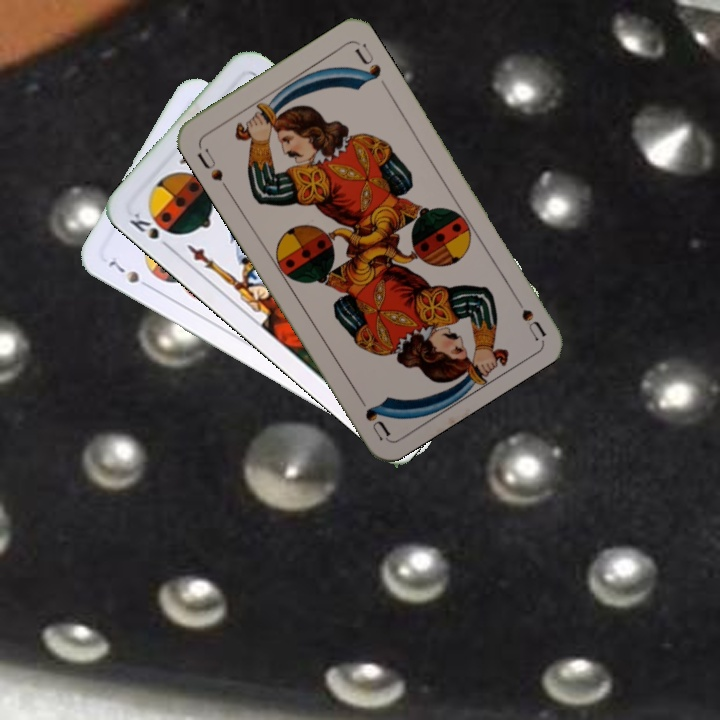S7: (101, 253, 155, 292)
SK: (125, 208, 175, 253)
SU: (507, 286, 548, 342), (192, 144, 232, 194)
